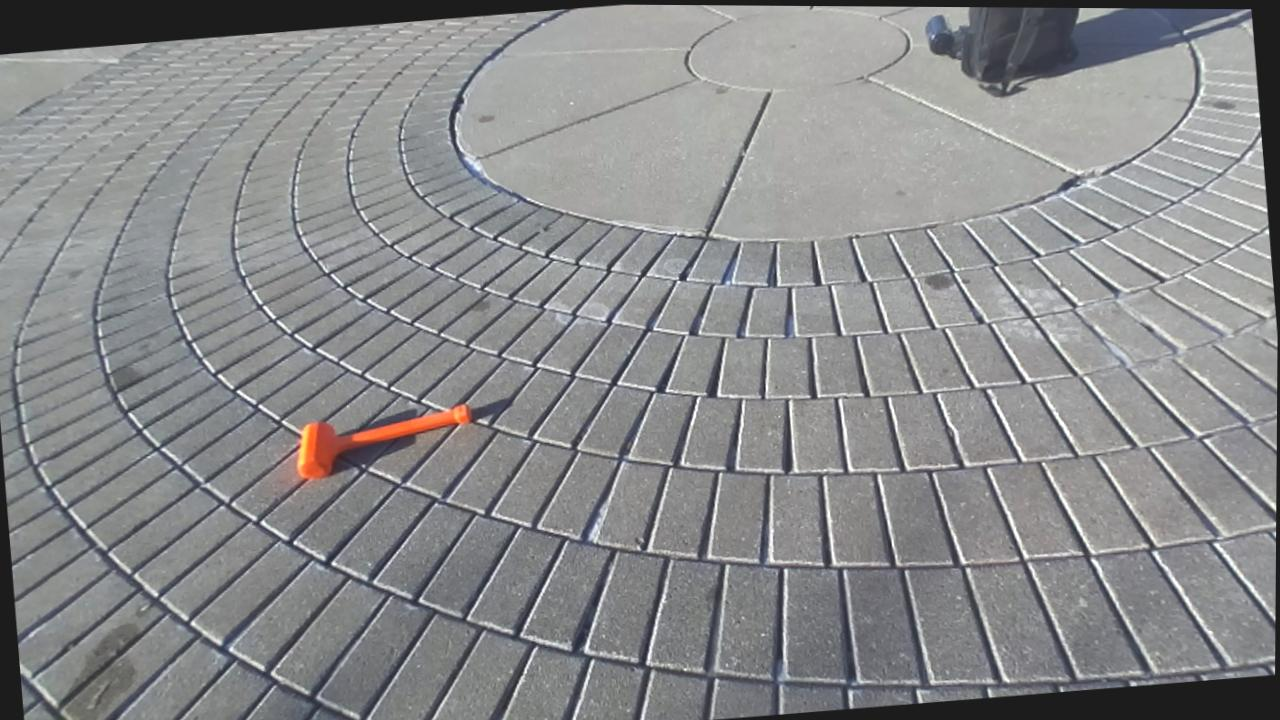bottle: (925, 16, 954, 55)
mallet: (295, 404, 471, 477)
